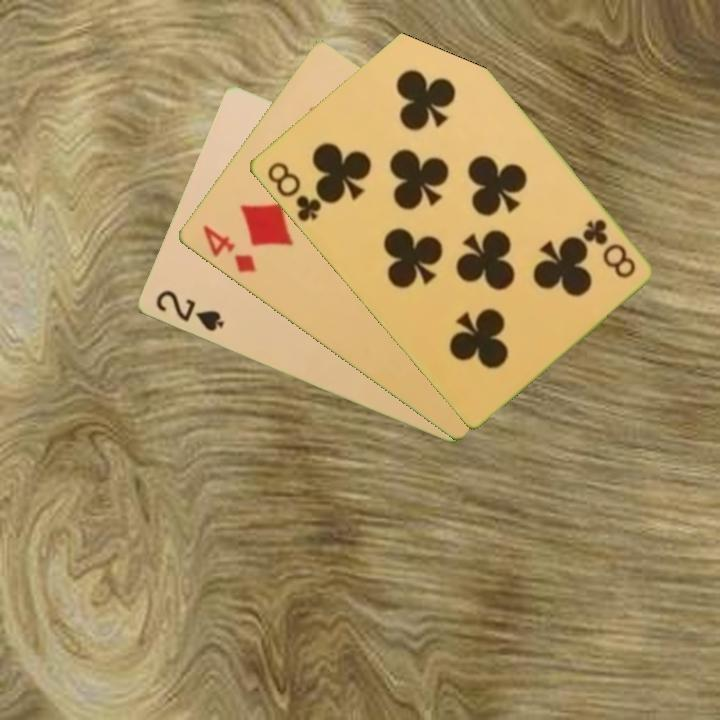2s: (151, 286, 227, 335)
4d: (198, 221, 259, 276)
8c: (263, 158, 324, 225), (578, 215, 638, 282)
